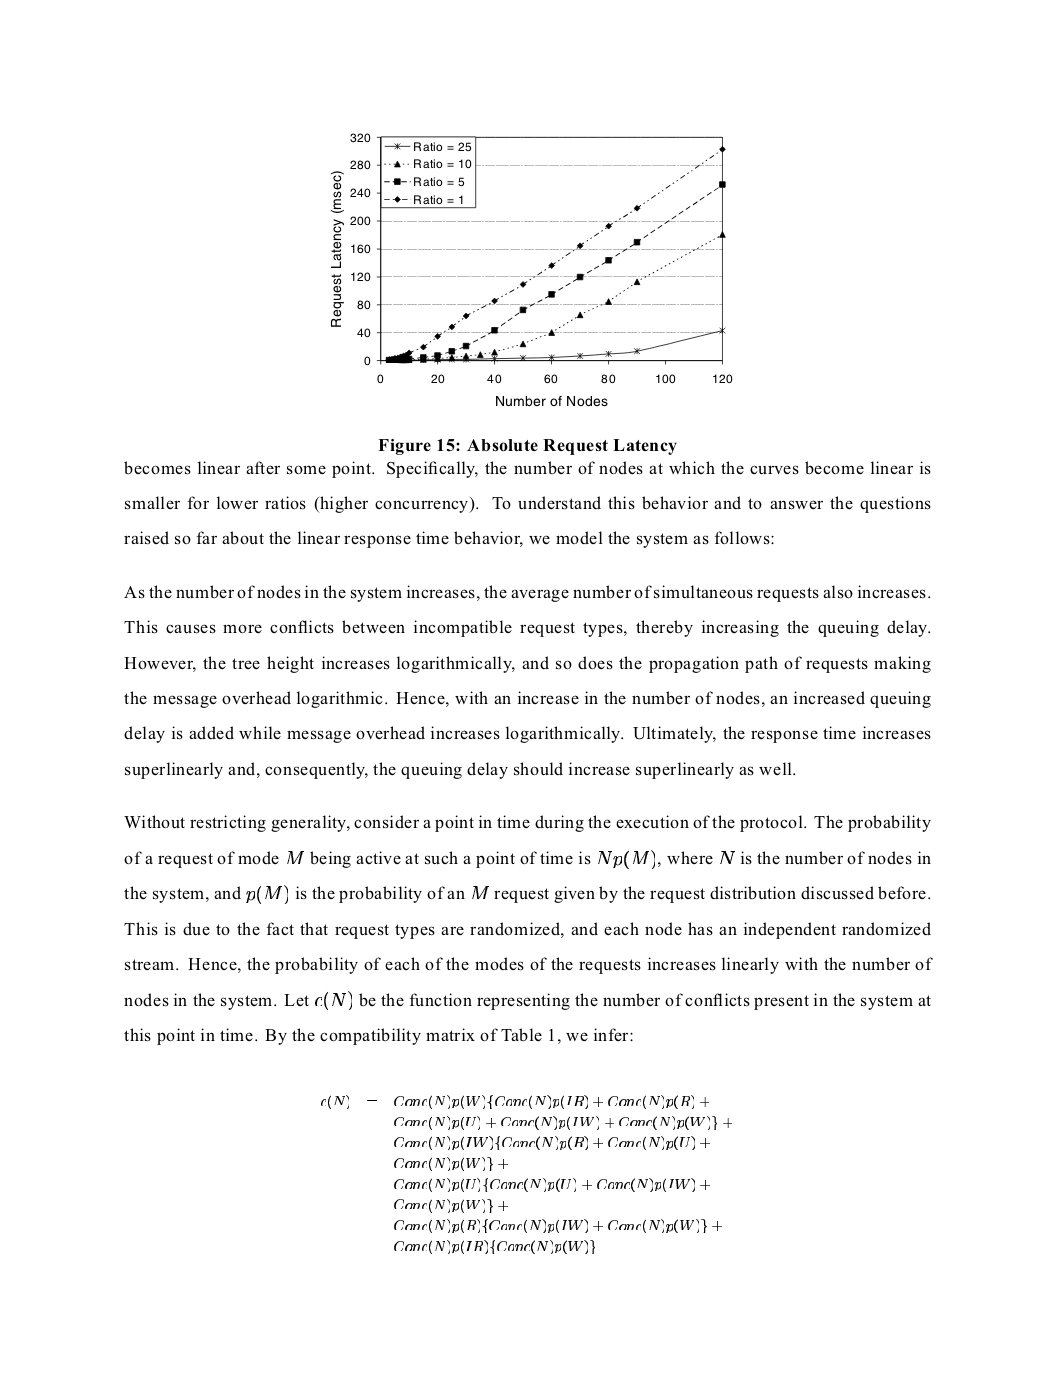figure: (330, 133, 732, 406)
formula: (321, 1094, 708, 1109), (395, 1114, 731, 1130), (395, 1135, 709, 1150), (395, 1177, 709, 1192), (395, 1218, 721, 1233), (395, 1239, 594, 1254), (395, 1156, 507, 1171), (395, 1198, 507, 1213)
